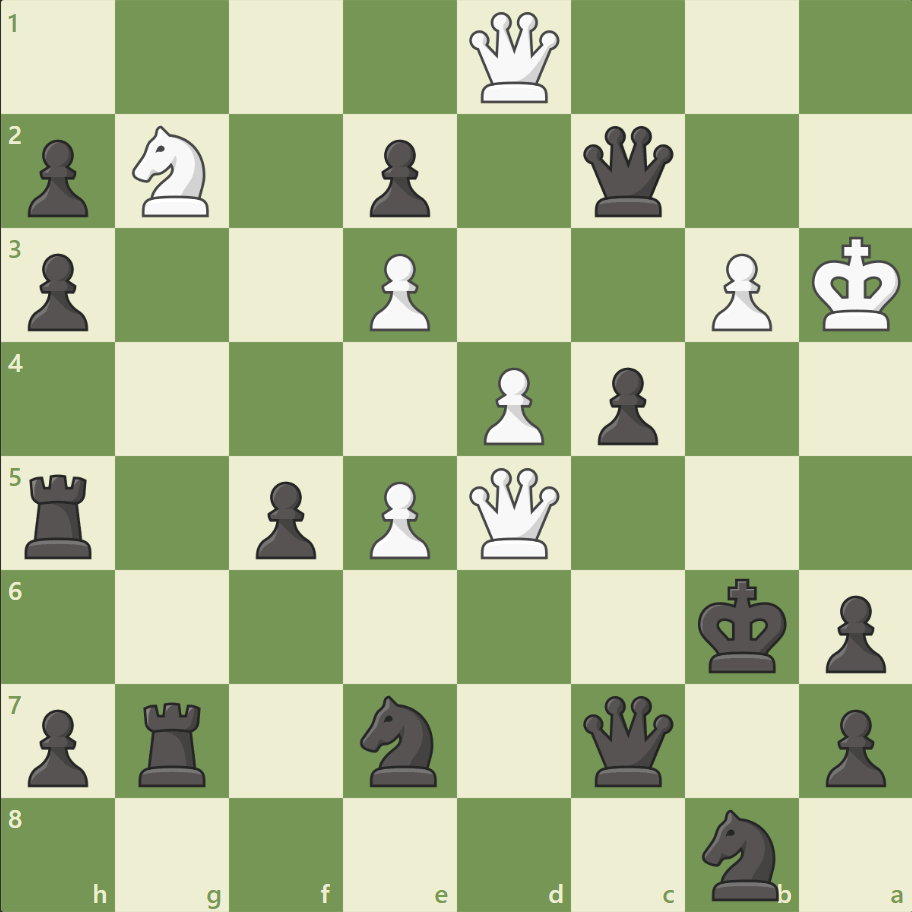K: (806, 231, 906, 339)
N: (124, 121, 222, 223)
P: (474, 359, 549, 450), (701, 246, 776, 337), (361, 473, 435, 564), (361, 246, 435, 337)
Q: (464, 463, 563, 562), (464, 9, 563, 108)
k: (692, 571, 792, 679)
n: (351, 688, 449, 791), (692, 802, 789, 904)
p: (20, 700, 95, 791), (247, 473, 322, 564), (20, 246, 95, 337), (20, 132, 95, 223), (815, 700, 889, 791), (815, 586, 889, 677), (588, 359, 662, 450), (361, 132, 435, 223)
q: (578, 122, 677, 222), (578, 690, 677, 789)
r: (19, 466, 102, 563), (133, 693, 215, 790)
